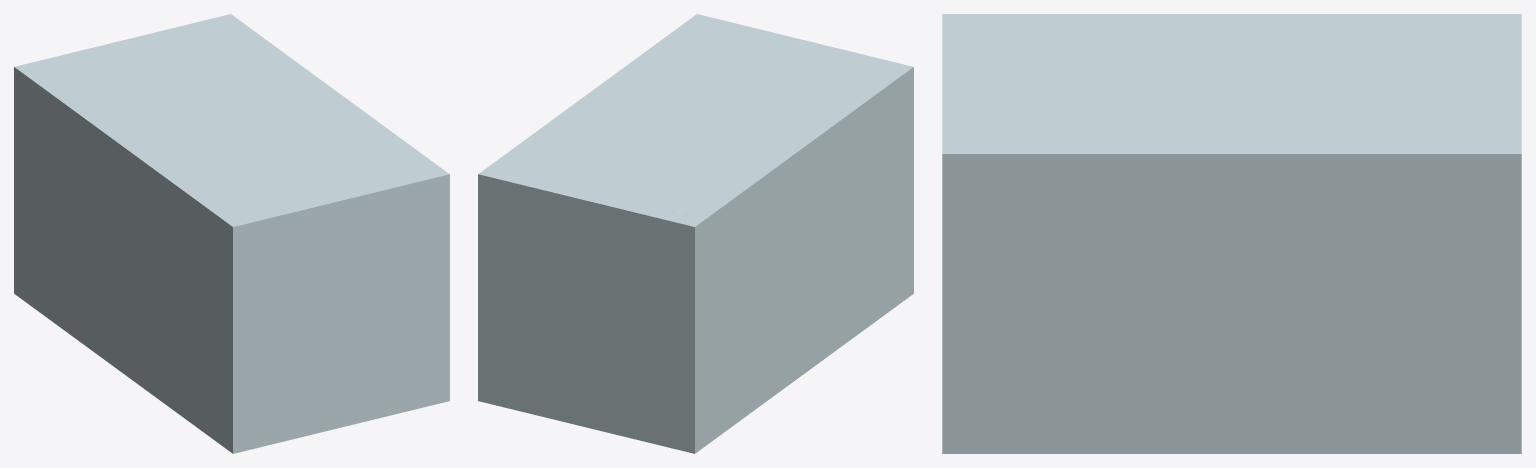
Rendered from train.fbx.
The picture shows the model from 3 angles, left to right: view 1: azimuth 30°, elevation 25°; view 2: azimuth 150°, elevation 25°; view 3: azimuth 270°, elevation 25°; orthographic projection. The views are drawn at different scales.
Visible parts, largest first — view 1: Cube.004, Cube.015, Cube.018, Cube.021, Cube.029; view 2: Cube.021, Cube.004, Cube.018, Cube.029; view 3: Cube.004, Cube.018, Cube.021, Cube.029.
Boxes of the visible parts, x1,y1,x2,y2 form: Cube.004: [24, 21, 438, 445]; Cube.015: [233, 174, 449, 453]; Cube.018: [40, 25, 423, 215]; Cube.021: [14, 14, 240, 300]; Cube.029: [222, 166, 449, 453]; Cube.021: [478, 166, 705, 453]; Cube.004: [489, 21, 903, 445]; Cube.018: [504, 25, 887, 215]; Cube.029: [687, 14, 913, 300]; Cube.004: [970, 14, 1493, 453]; Cube.018: [970, 24, 1493, 143]; Cube.021: [1494, 14, 1521, 453]; Cube.029: [942, 14, 969, 453].
Bounding box in the file's own units: 1200 × 1200 × 2099.
8 materials, 8 textured.
